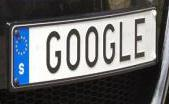E: (134, 17, 147, 60)
G: (44, 30, 62, 74), (101, 22, 117, 65)
L: (119, 21, 132, 63)
O: (66, 29, 81, 71), (84, 27, 99, 68)
